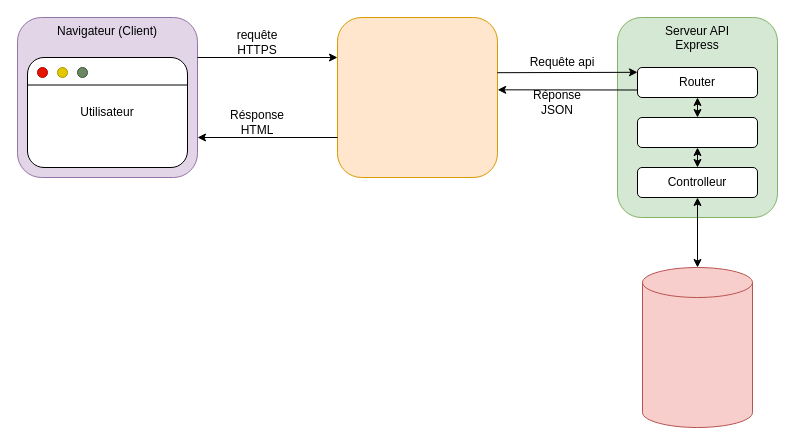
The diagram is 795 pixels wide and 445 high, and some of its shapes have lost their labels. Here are the shapes that lost their labels. From the top down, the centre of each, then its label:
point (417, 97): Serveur d'application (SSR) Sveltkit
point (697, 132): Middleware
point (697, 347): Base de données Postgres
